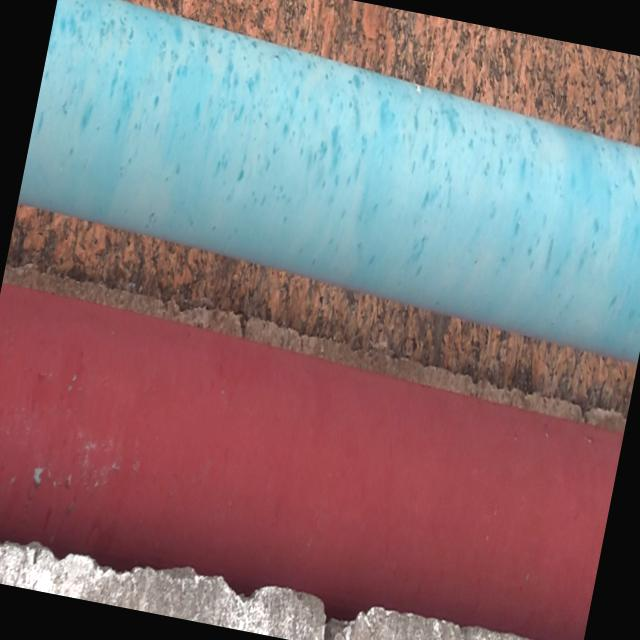gas: (0, 265, 622, 640), (14, 0, 640, 365)
